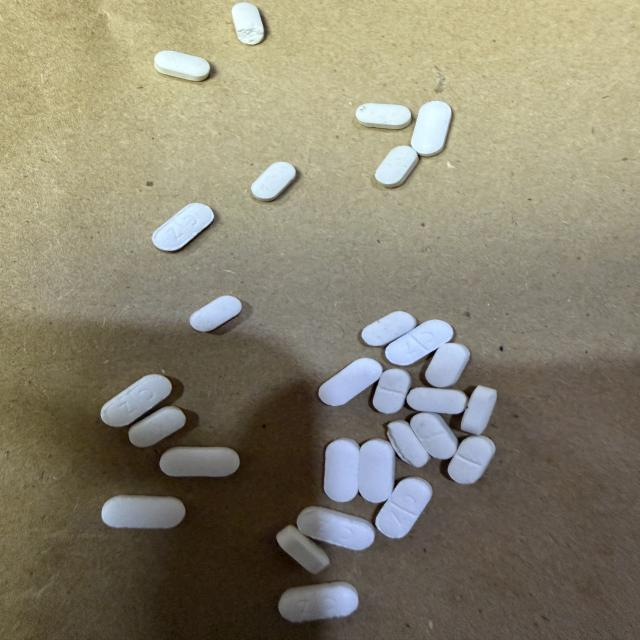pill: (101, 374, 171, 426), (376, 477, 432, 538), (297, 507, 374, 550), (279, 582, 358, 622), (319, 358, 382, 406), (386, 320, 453, 365), (152, 204, 213, 251), (102, 495, 185, 528), (277, 526, 329, 574), (160, 447, 239, 477), (359, 439, 395, 503), (448, 436, 495, 484), (129, 407, 185, 447), (324, 439, 359, 502), (412, 101, 451, 156), (411, 413, 457, 459), (426, 343, 470, 387), (387, 421, 429, 467), (362, 311, 416, 346), (190, 296, 241, 331), (375, 146, 418, 187), (252, 162, 296, 201), (461, 386, 496, 435), (154, 51, 210, 81), (373, 369, 411, 413), (407, 388, 467, 414), (356, 104, 411, 129), (232, 3, 264, 44)
